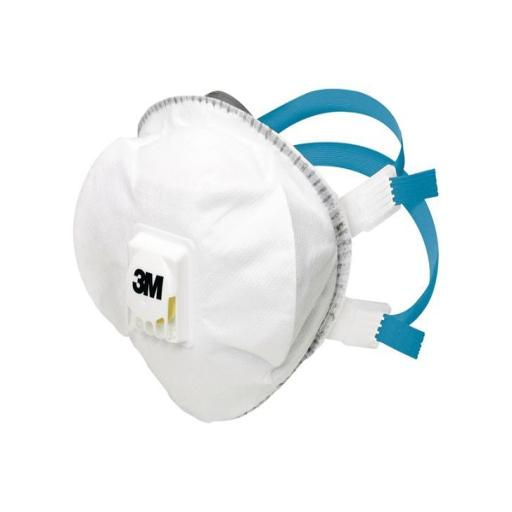mask: (69, 90, 361, 428)
